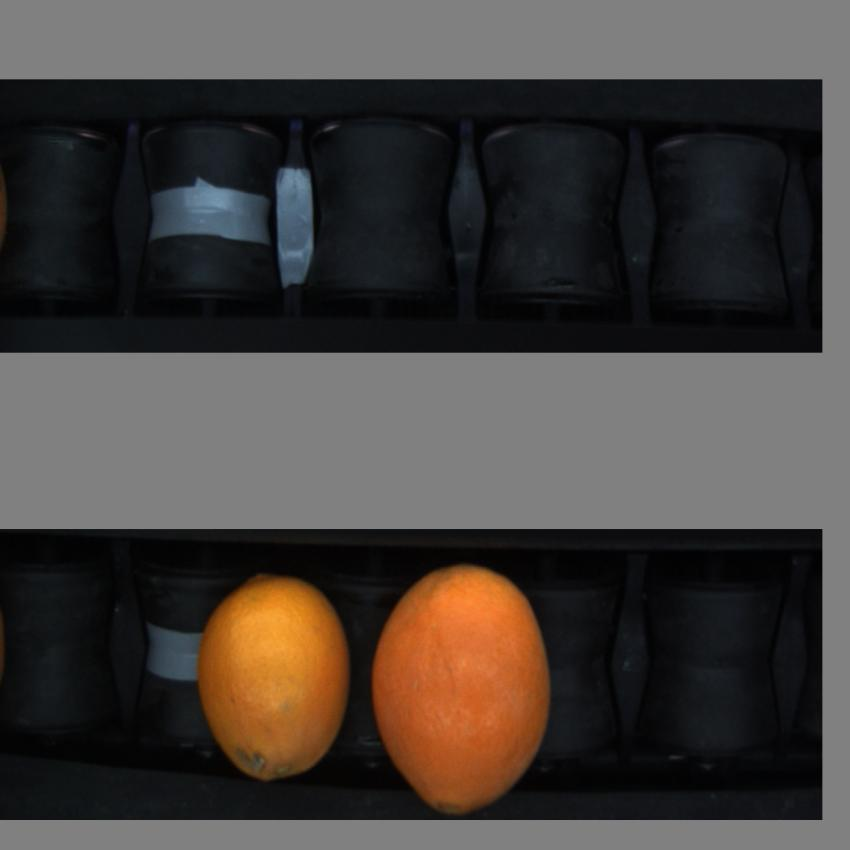Buen estado: (368, 563, 560, 818), (192, 571, 354, 791)
